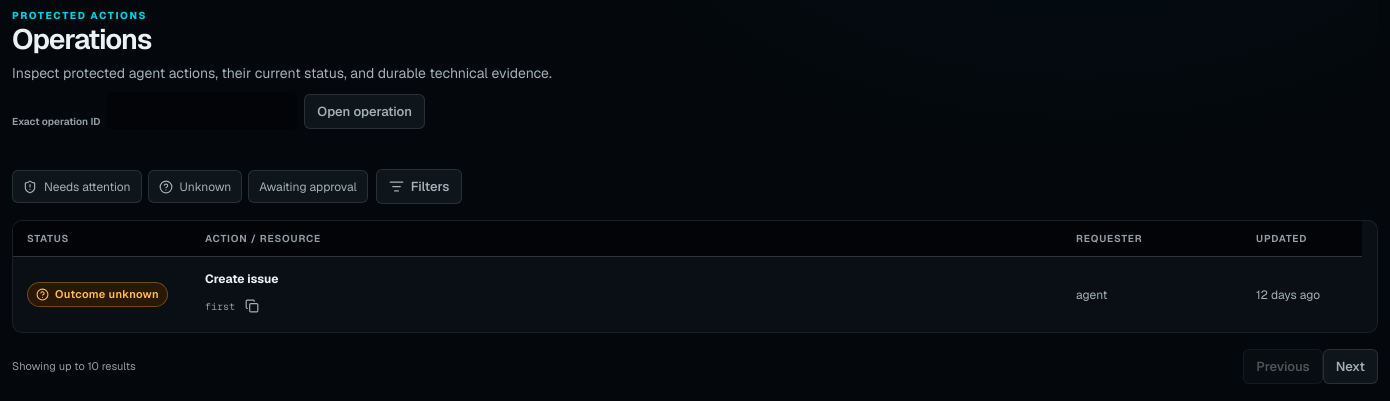
Test case: uses opaque next cursor and client-only previous history
Expected: the text "first" is shown, 205,299 -> 235,314
Expected: the button "Previous" is disabled, 1243,349 -> 1323,384
Click the button "Next". click: (1350, 366)
box: 1323,349 -> 1378,384
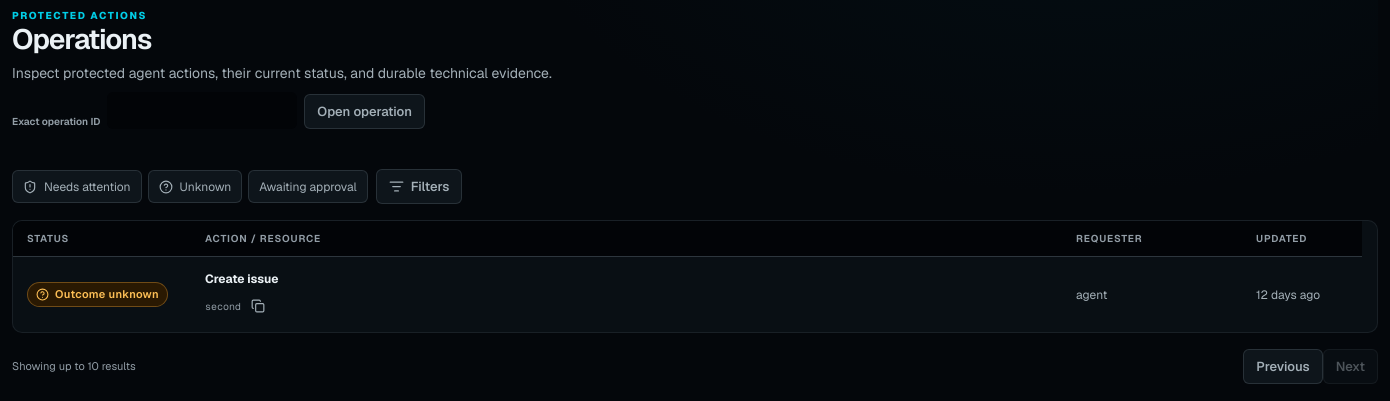
Expected: the text "second" is shown, 205,299 -> 241,314
Click the button "Previous". click: (1283, 366)
box: 1243,349 -> 1323,384
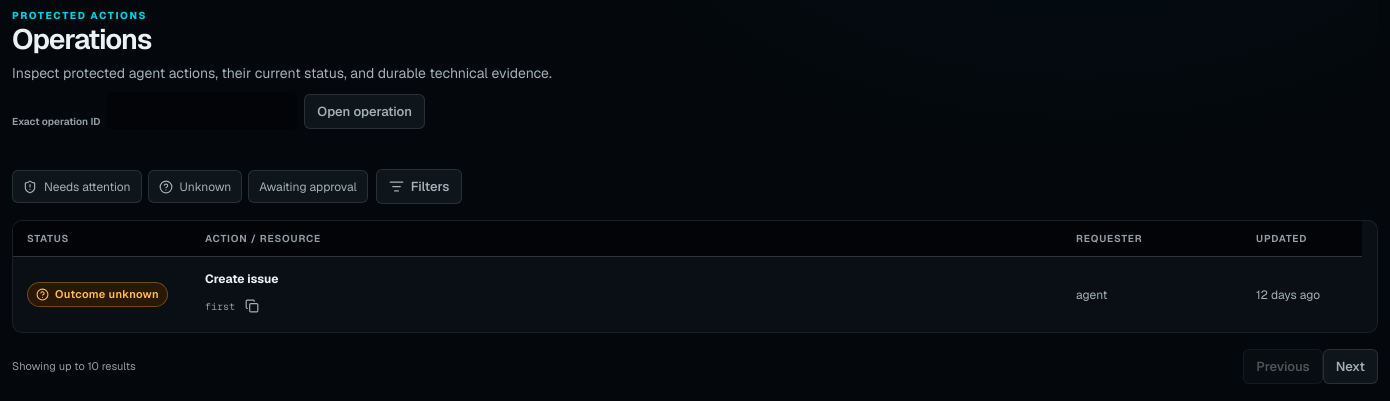
Expected: the text "first" is shown, 205,299 -> 235,314
